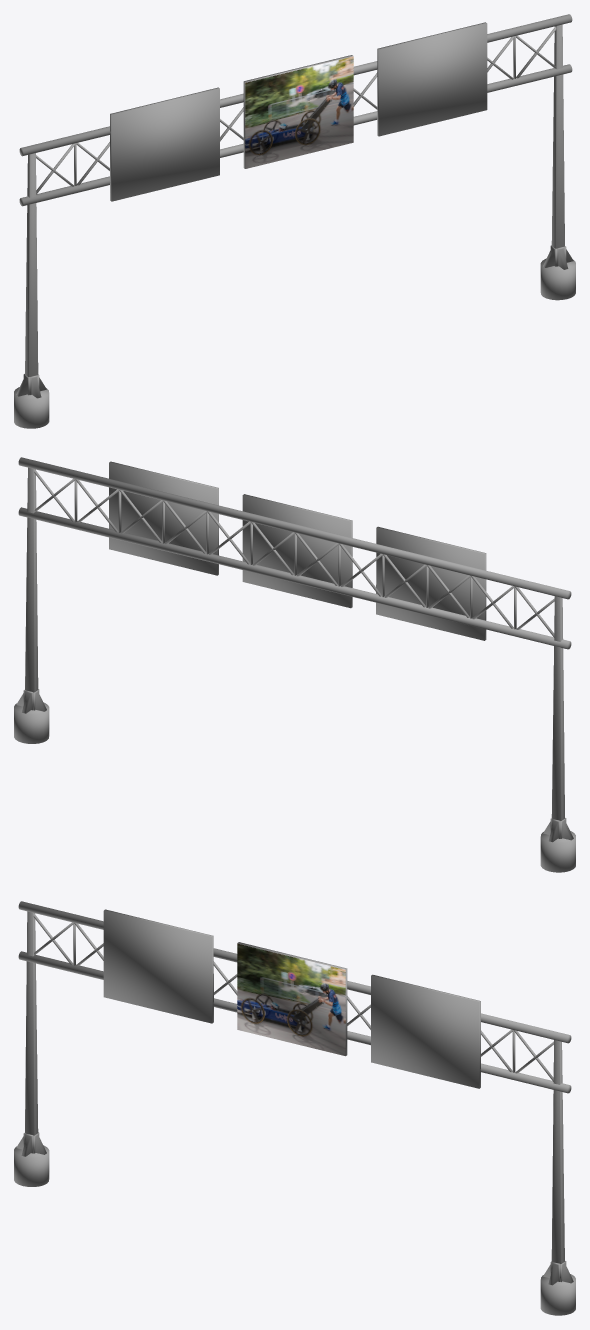
File: highwaySignTextured.obj
3 views of the same model, one above another, from view 1: azimuth 30°, elevation 25°; view 2: azimuth 150°, elevation 25°; view 3: azimuth 330°, elevation 25° (orthographic).
Parts seen in each view (by area): view 1: HighwaySign_Board003; view 2: HighwaySign_Board003; view 3: HighwaySign_Board003.
Boxes of the visible parts, left/top/right/bottom form: HighwaySign_Board003: left=14, top=14, right=575, bottom=428; HighwaySign_Board003: left=14, top=457, right=575, bottom=872; HighwaySign_Board003: left=14, top=901, right=575, bottom=1315.
Size of the model in its own units: 19.75 by 9.83 by 1.06.
Materials: 3 (1 with a texture image).
